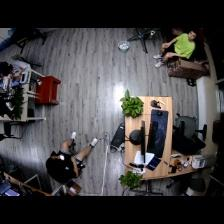normal: (48, 135, 97, 183), (150, 28, 196, 68), (2, 61, 32, 79)
